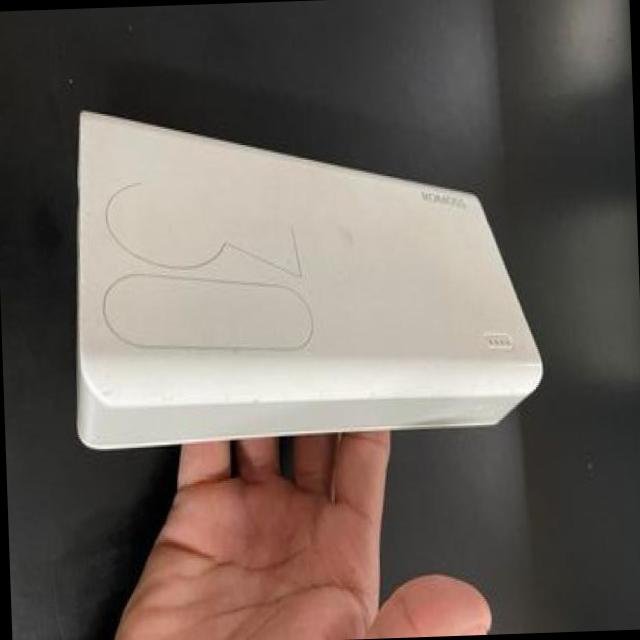power_bank: (58, 89, 546, 468)
